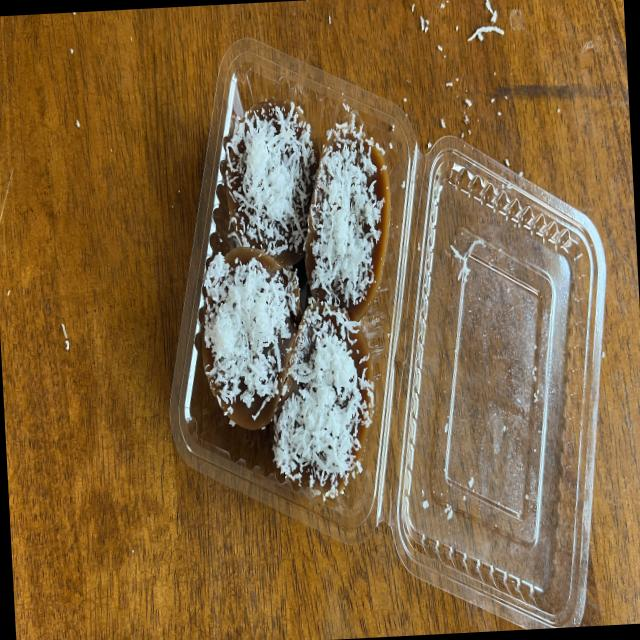Kuih lompang: (273, 300, 374, 500), (199, 248, 302, 430), (306, 113, 391, 321), (221, 100, 317, 266)
